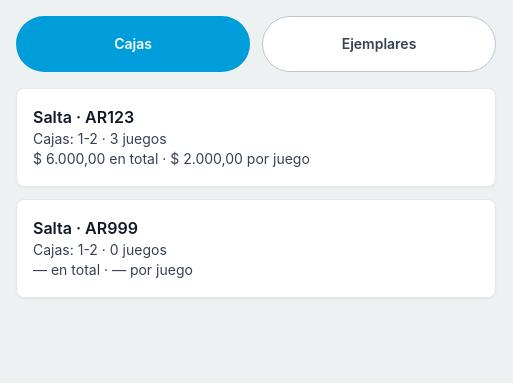
Test: city received › lists the shipments to the city with total and price per game
expect the text "$ 6.000,00 en total · $ 2.000,00 por juego" is shown: met, box [33,150,310,167]
expect the text "— en total · — por juego" is shown: met, box [33,261,193,278]
Click the text "Salta · AR123". click: [84, 117]
box: [33,107,134,127]
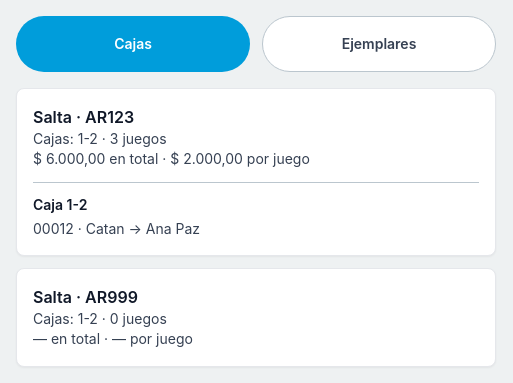
expect the list item "00012 · Catan → Ana Paz" is shown: met, box [33,220,200,237]
